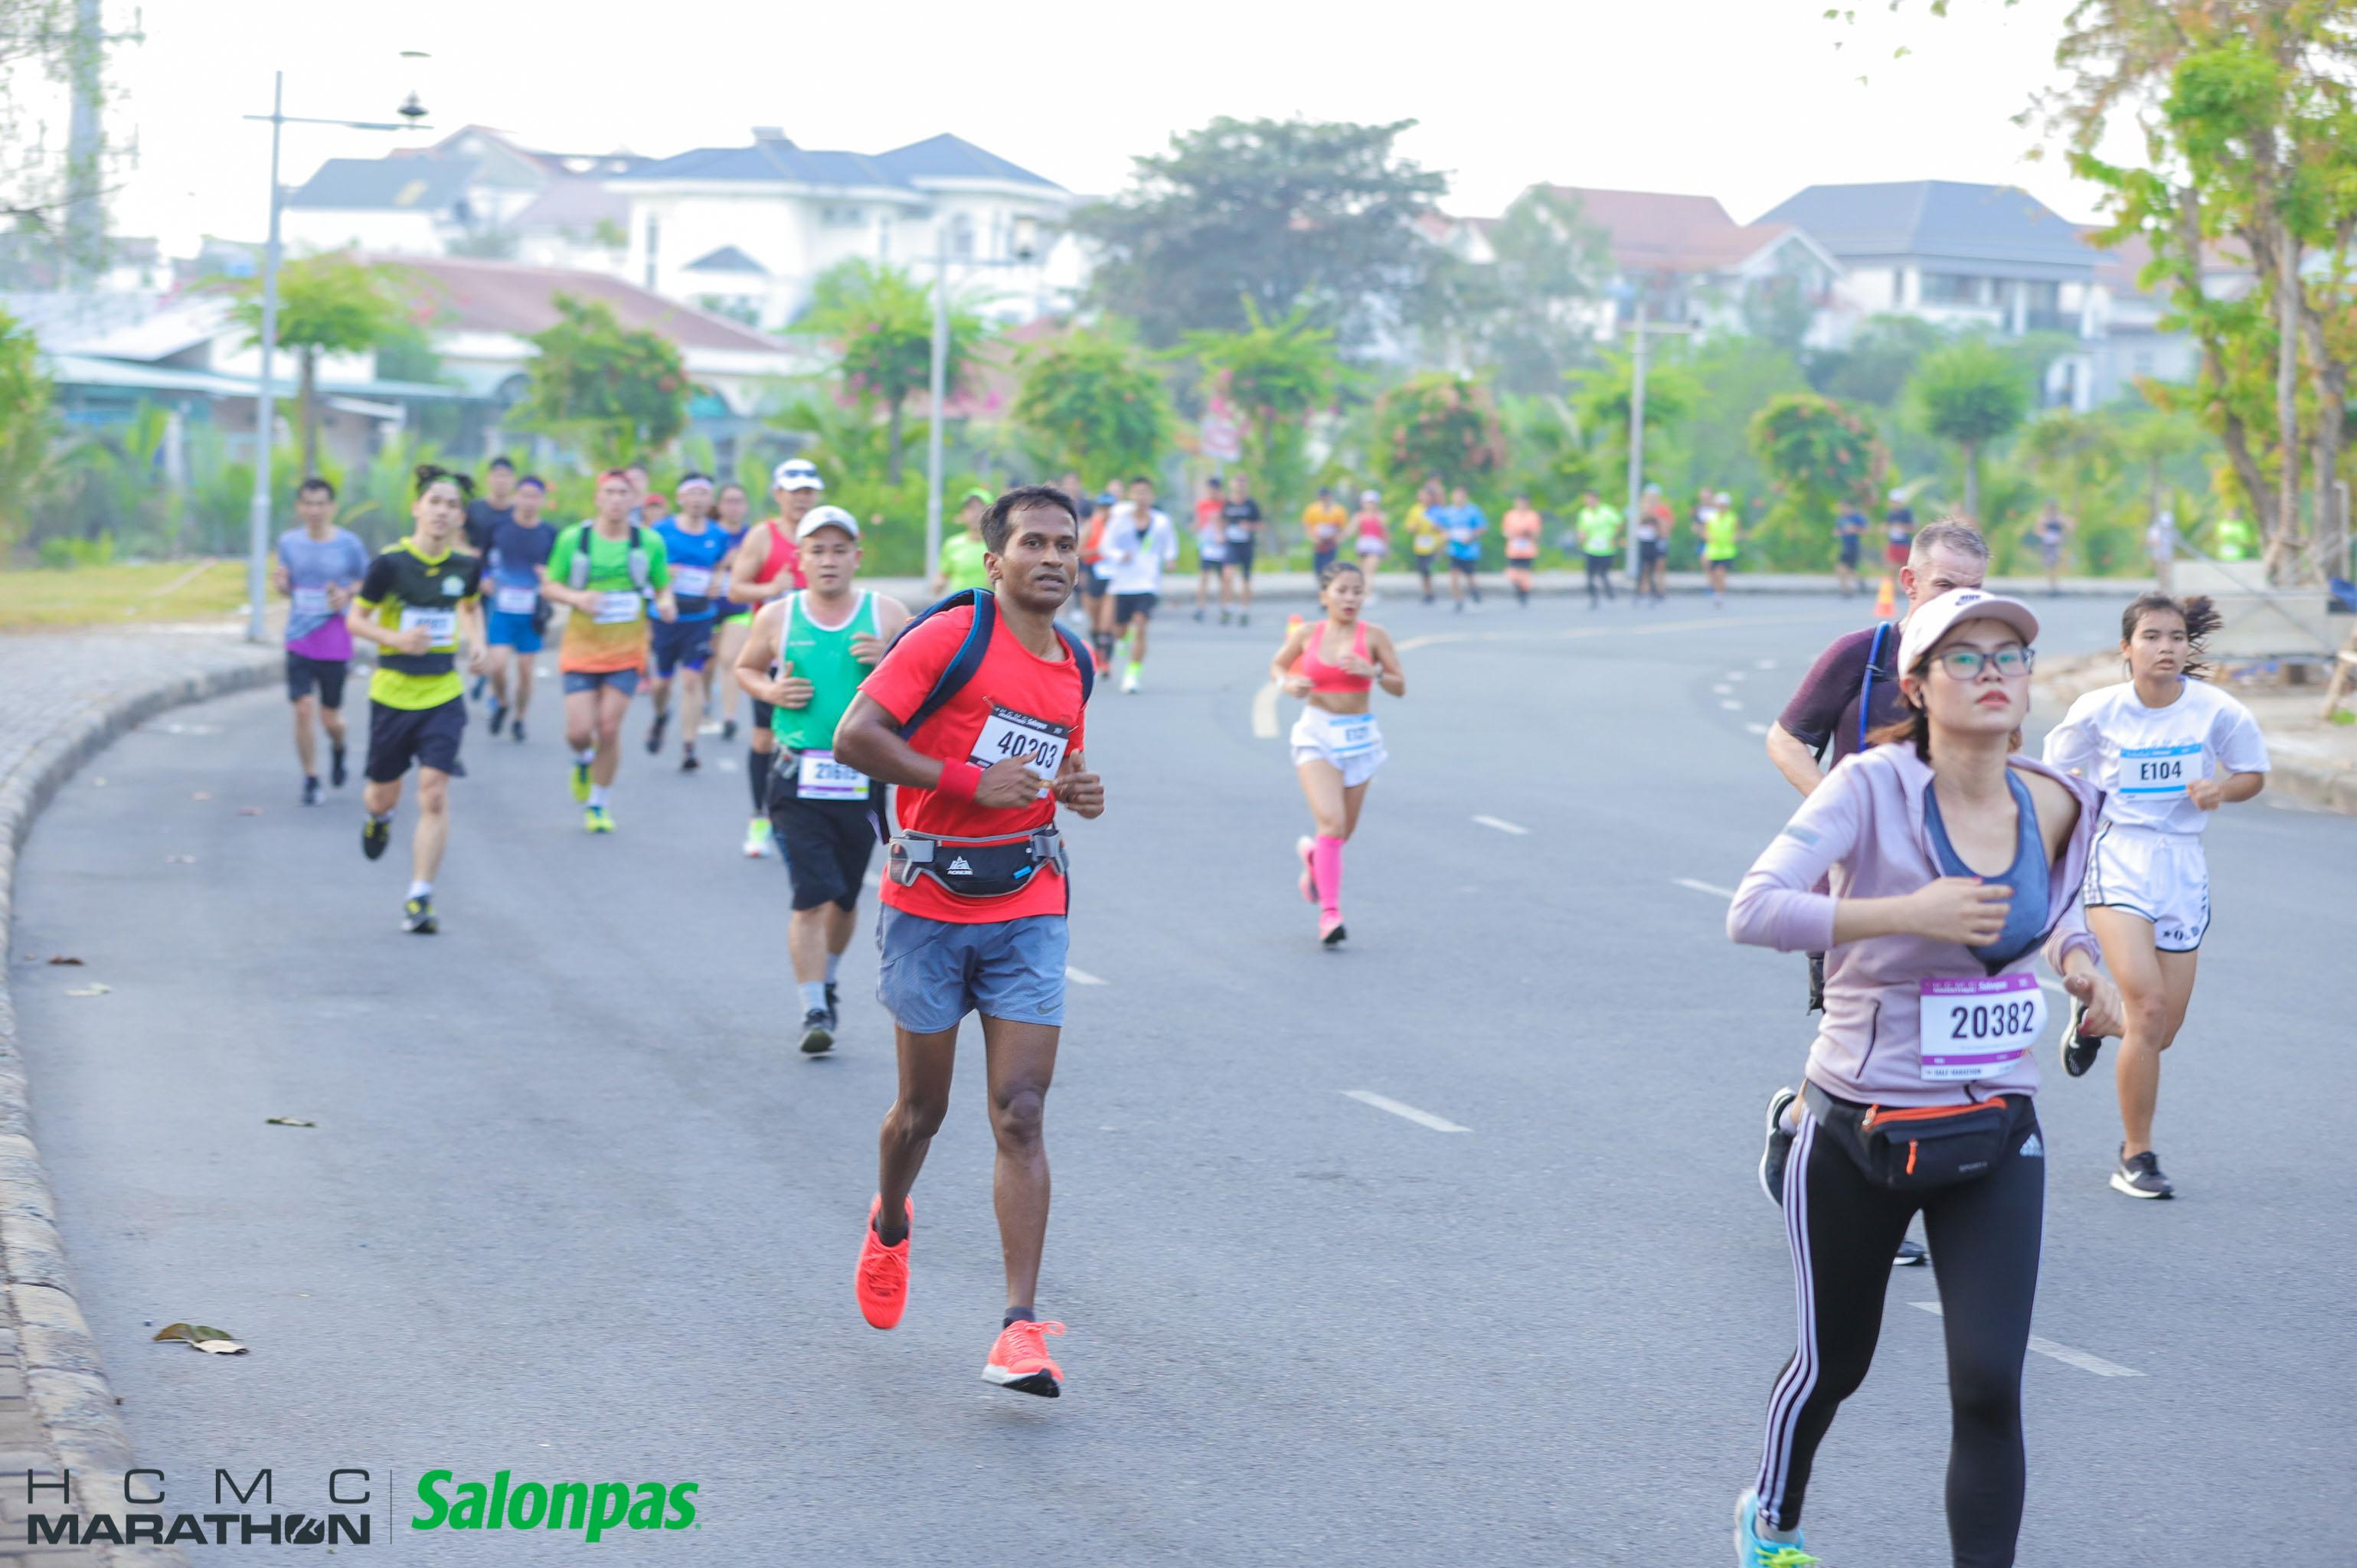bib: (1921, 975, 2047, 1069), (969, 705, 1069, 796), (796, 749, 871, 803), (2121, 747, 2203, 794), (399, 609, 458, 646), (595, 590, 640, 621), (1330, 719, 1381, 747)
